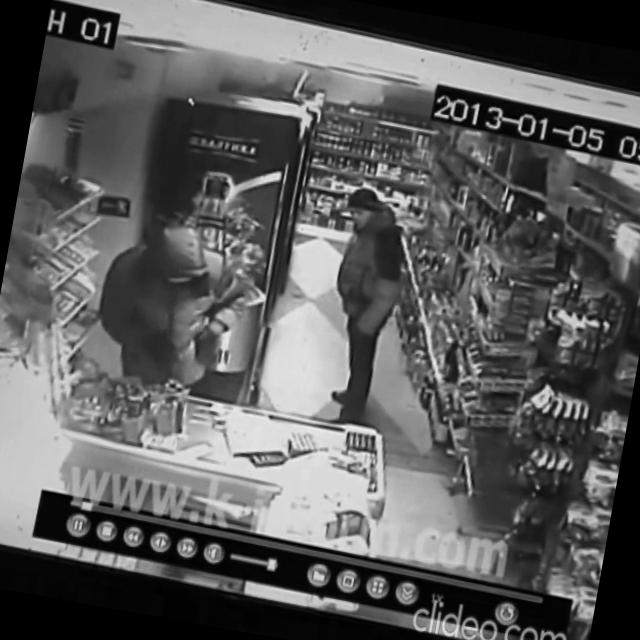gun: (148, 325, 186, 364)
person: (308, 184, 418, 428)
person with a gun: (86, 208, 260, 402)
